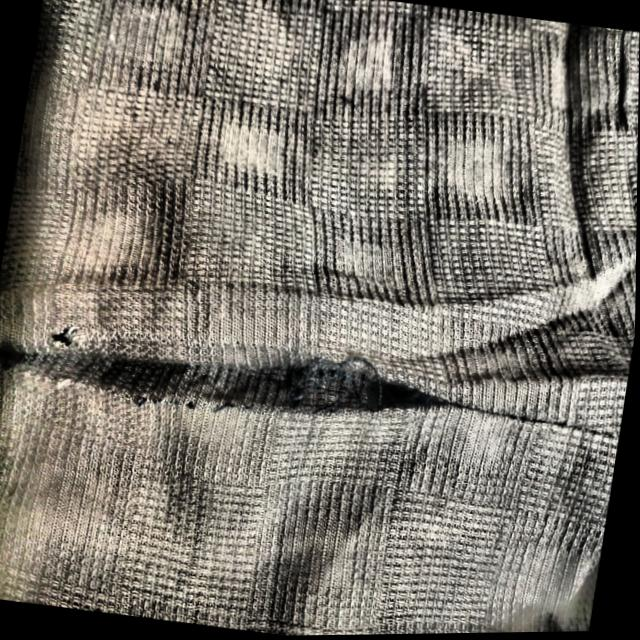Stitch: (0, 283, 478, 460)
